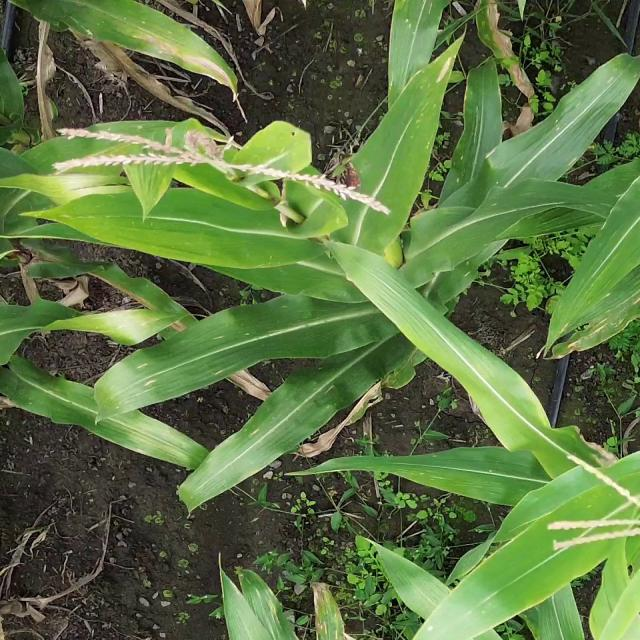gray-leaf-spot: (240, 574, 292, 638), (308, 583, 348, 640), (579, 313, 633, 350)
northern-leaf-blight: (123, 22, 261, 86), (86, 269, 198, 337)
southern-leaf-blight: (411, 70, 452, 148)
